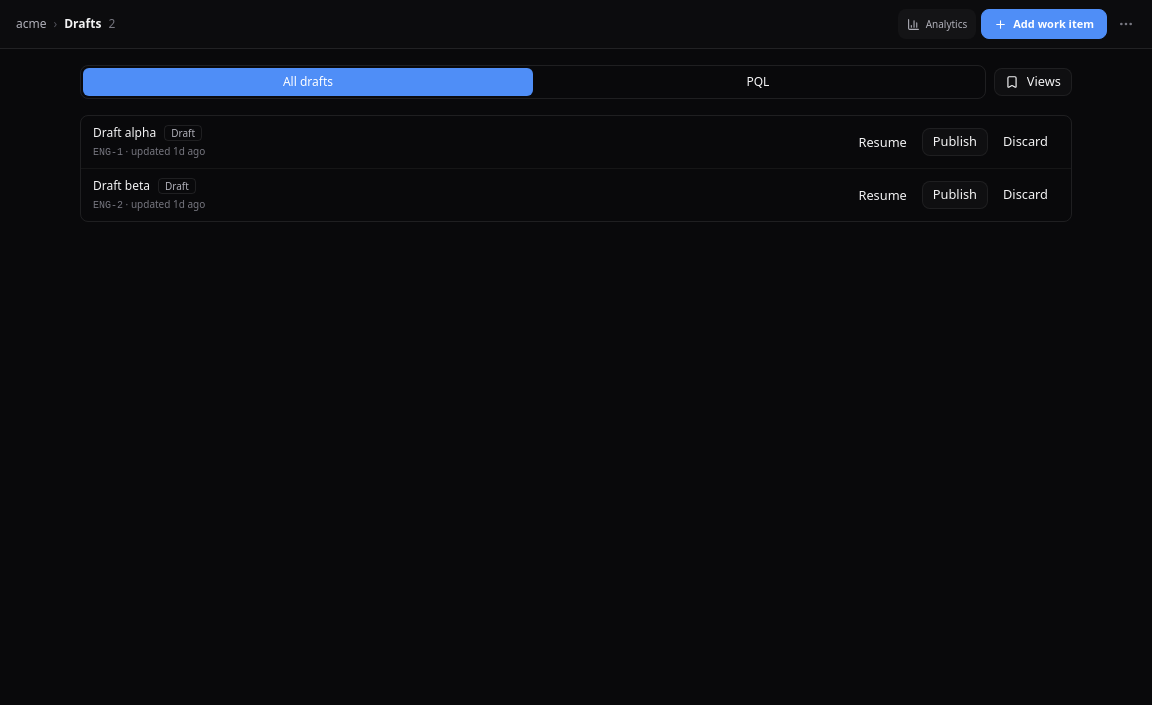
Test case: drafts saved views (C111T4) › leaving PQL mode after a view apply restores the full draft set
The width and height of the screenshot is (1152, 705).
Expected: the link "Draft alpha" is shown, [93,124,156,142]
Expected: the link "Draft beta" is shown, [93,177,150,195]
Click the button with aria-label "Saved views".
click(1033, 82)  # box [994,68,1072,96]
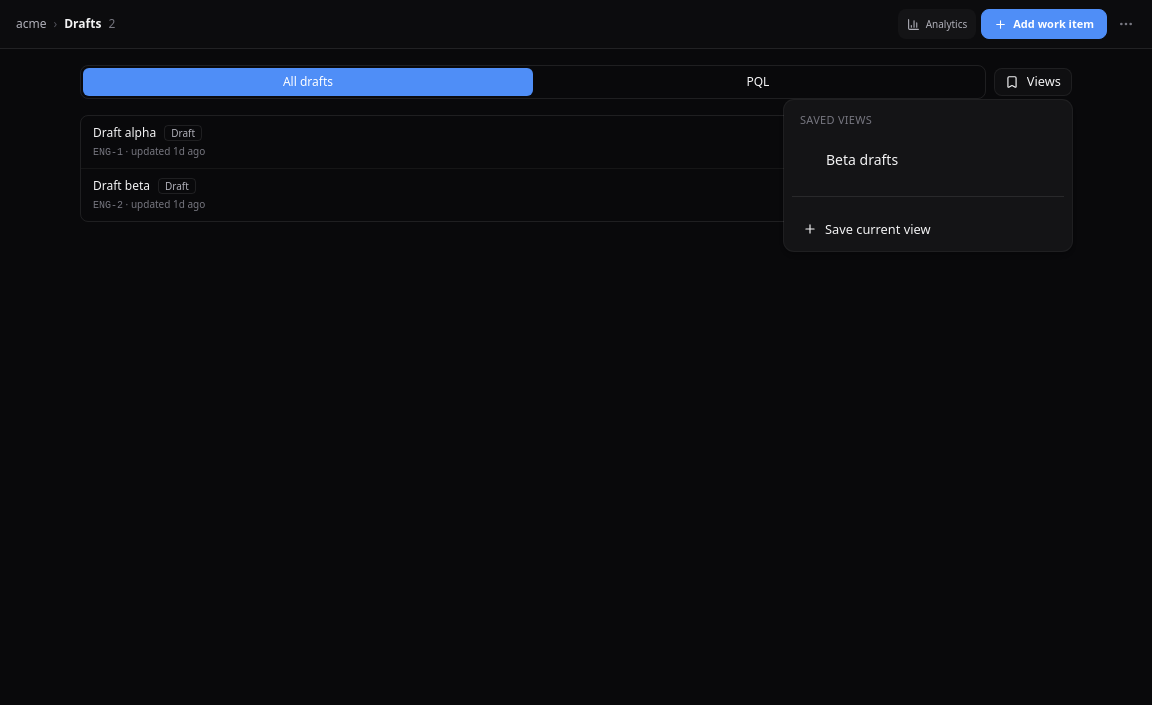
Now the button "Save current view" is shown, box [792,215,1064,243]
Click the button titled "Apply view “Beta drafts”".
click(868, 160)  # box [796,144,940,176]
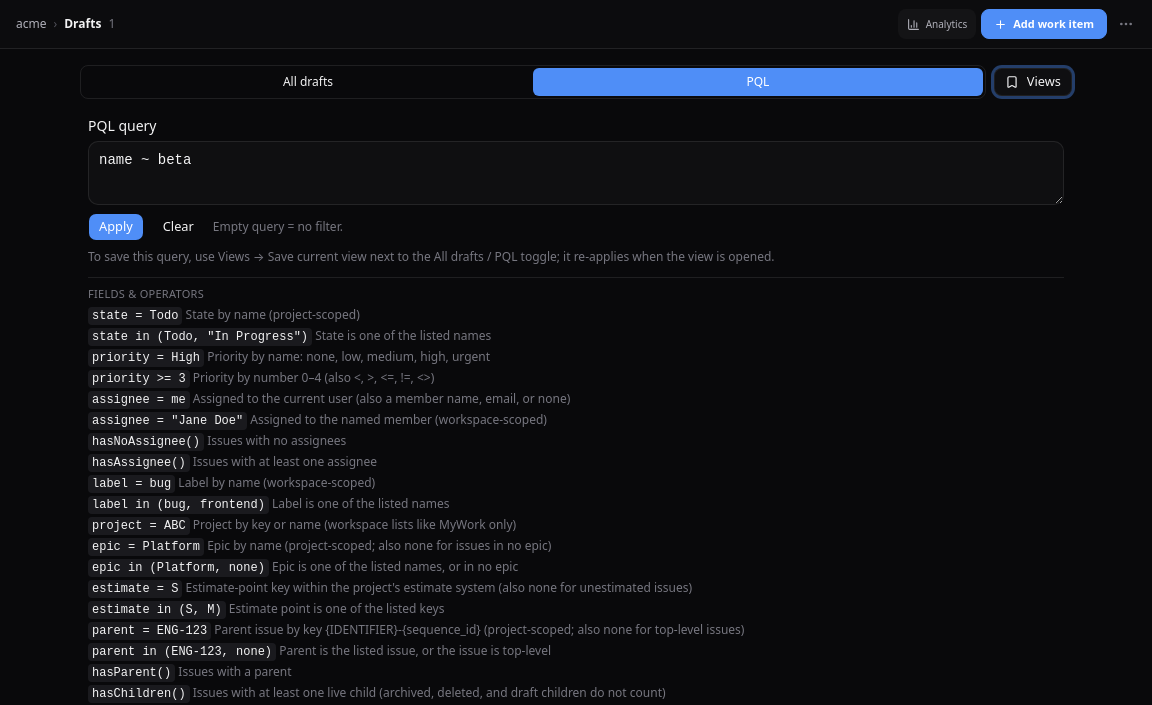
Now the link "Draft alpha" is gone
Click the button "All drafts".
click(308, 82)  # box [83,68,533,96]
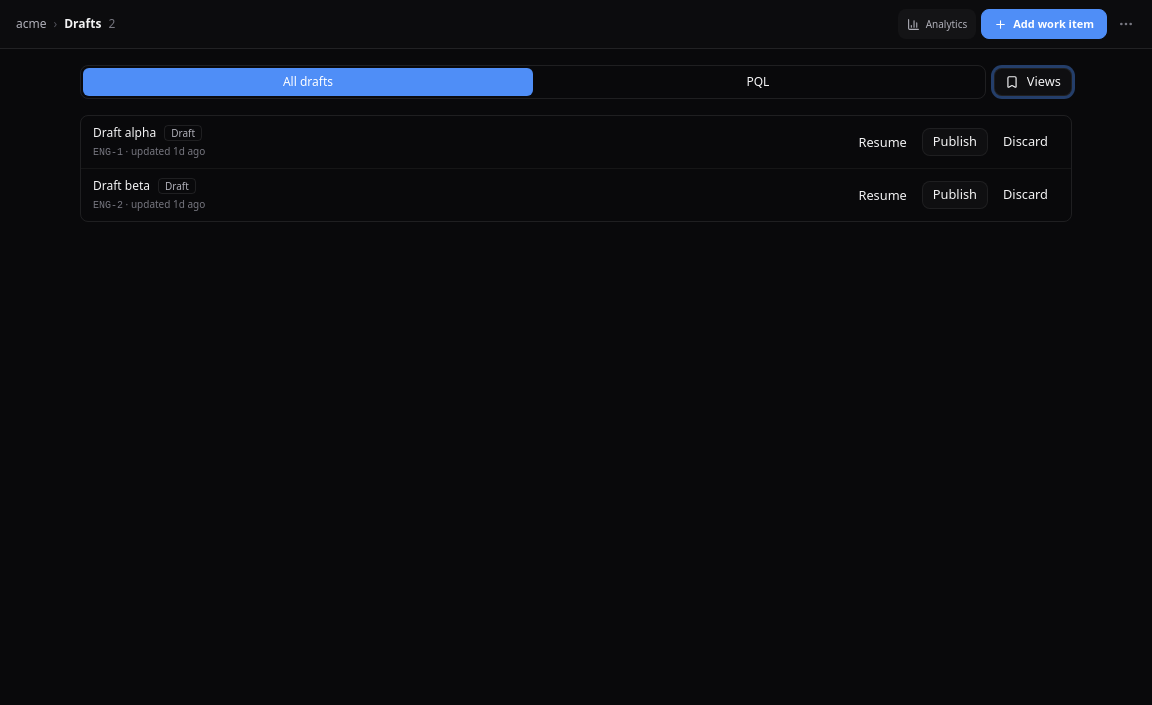
Expected: the link "Draft beta" is shown, [93,177,150,195]
Now the link "Draft alpha" is shown, box [93,124,156,142]
Now the label labelled "PQL query" is gone
